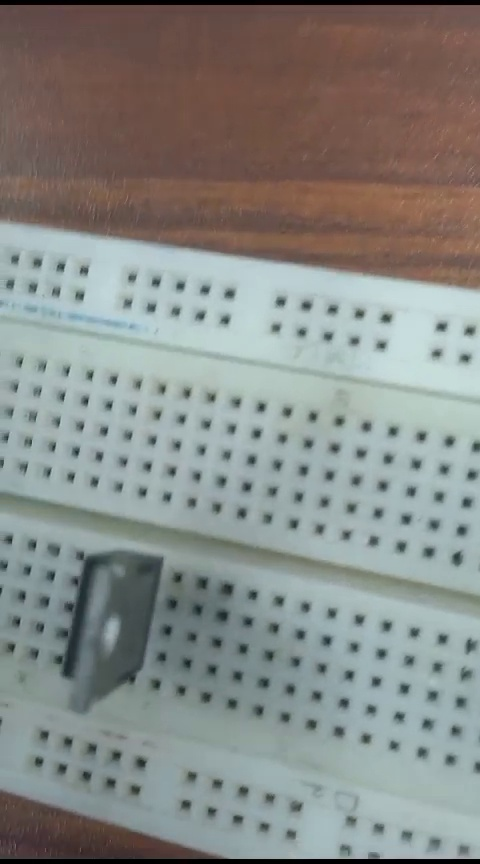voltage regulator: (53, 548, 170, 703)
